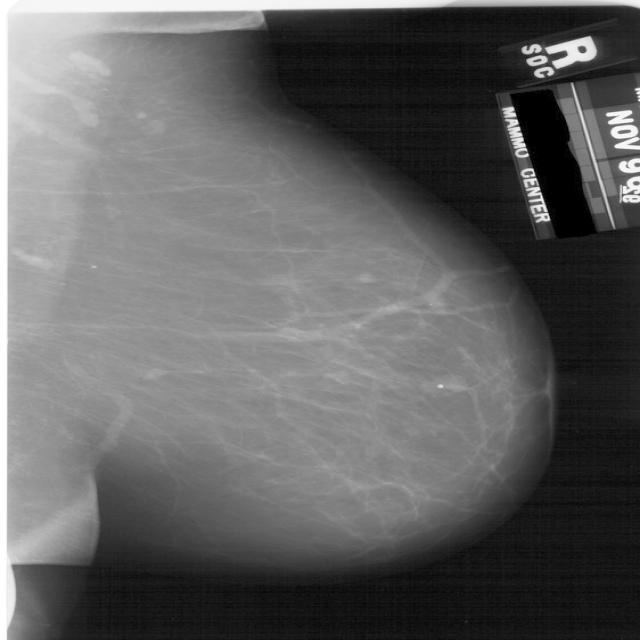tumour: (139, 367, 170, 382)
